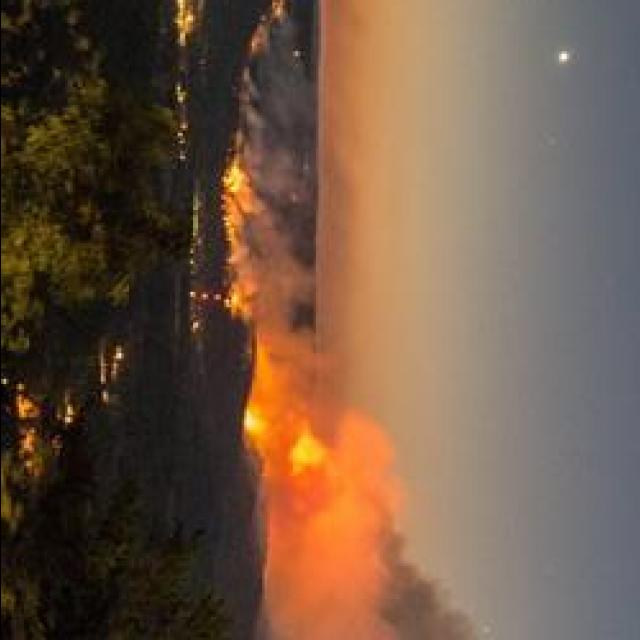fire: (288, 430, 322, 472), (234, 410, 264, 436)
smoke: (260, 553, 470, 639), (328, 403, 408, 573), (251, 142, 317, 310), (264, 327, 336, 382)
